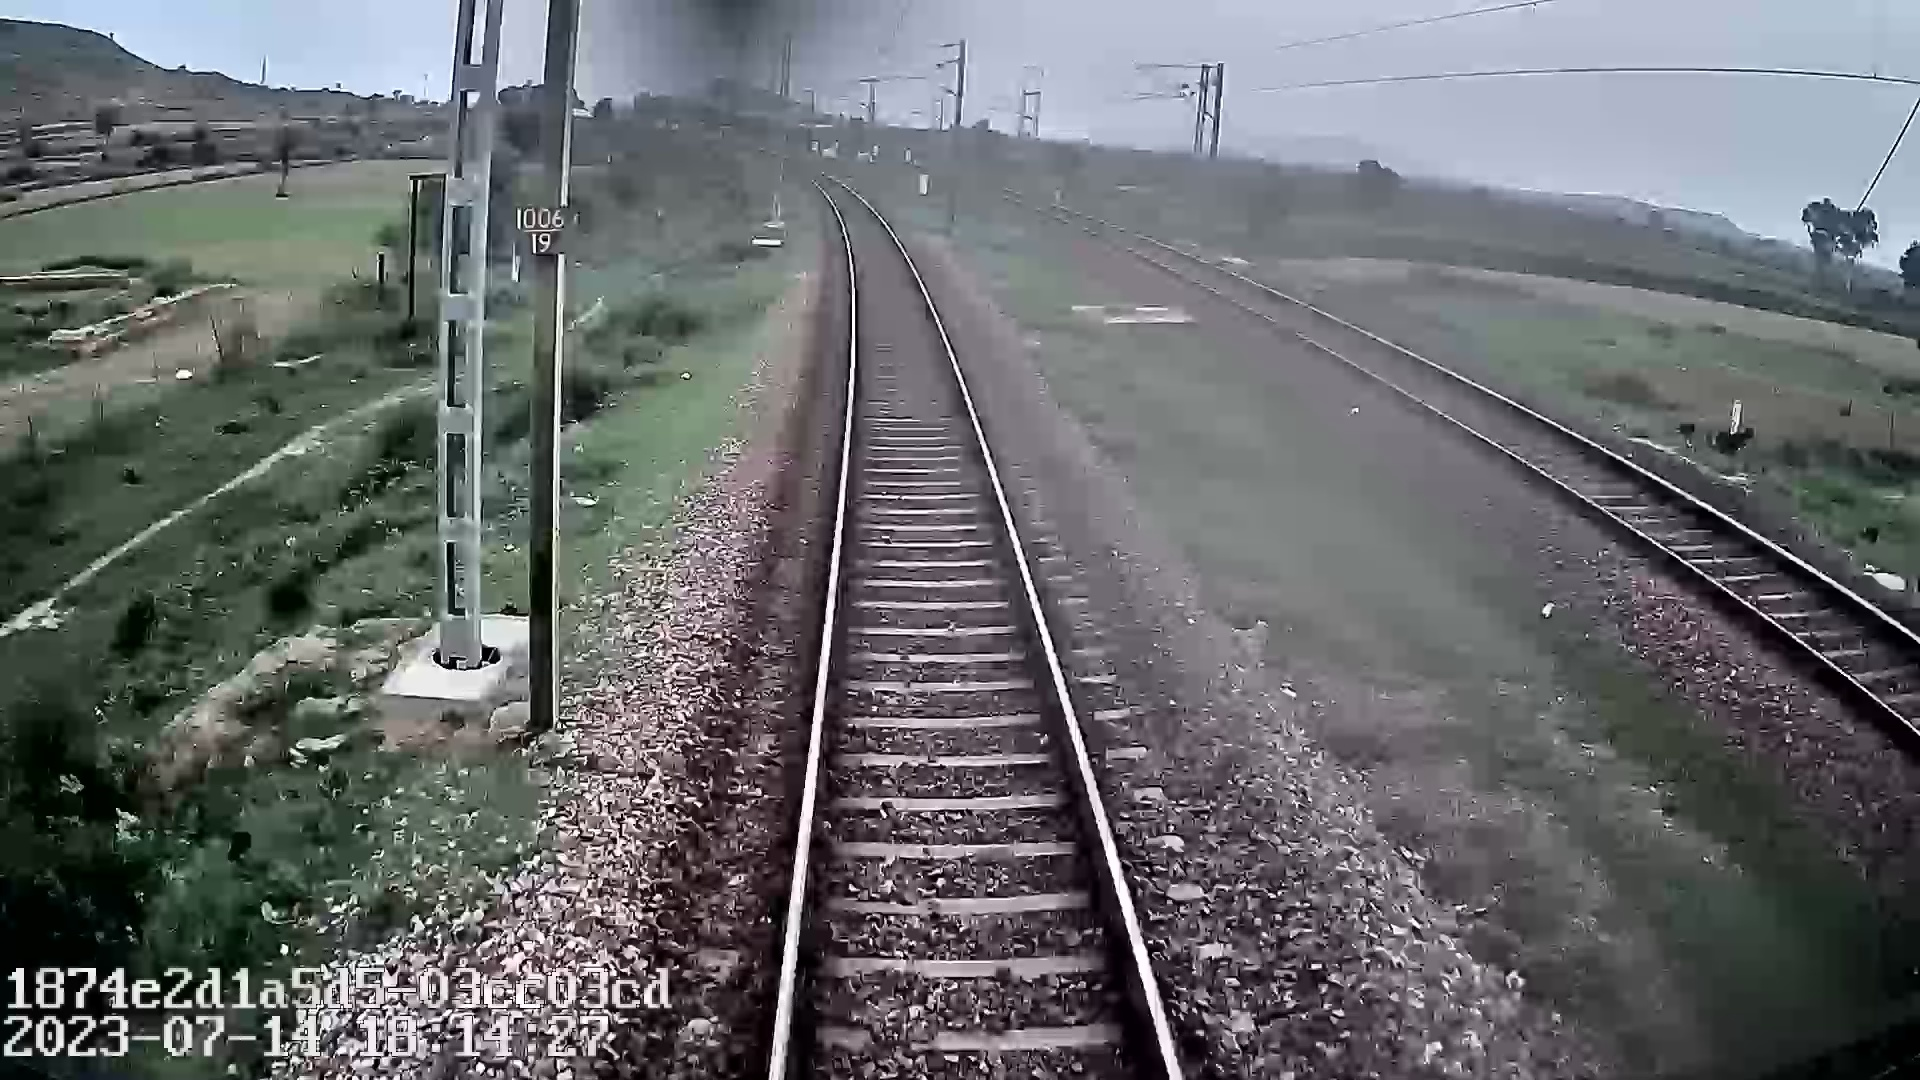track1: (781, 187, 1162, 1046)
track2: (1175, 265, 1911, 711)
